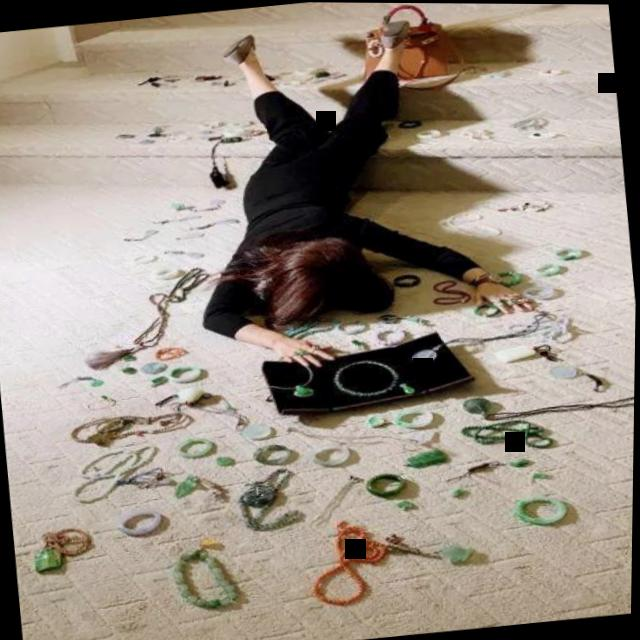Fall-Detected: (148, 1, 551, 385)
